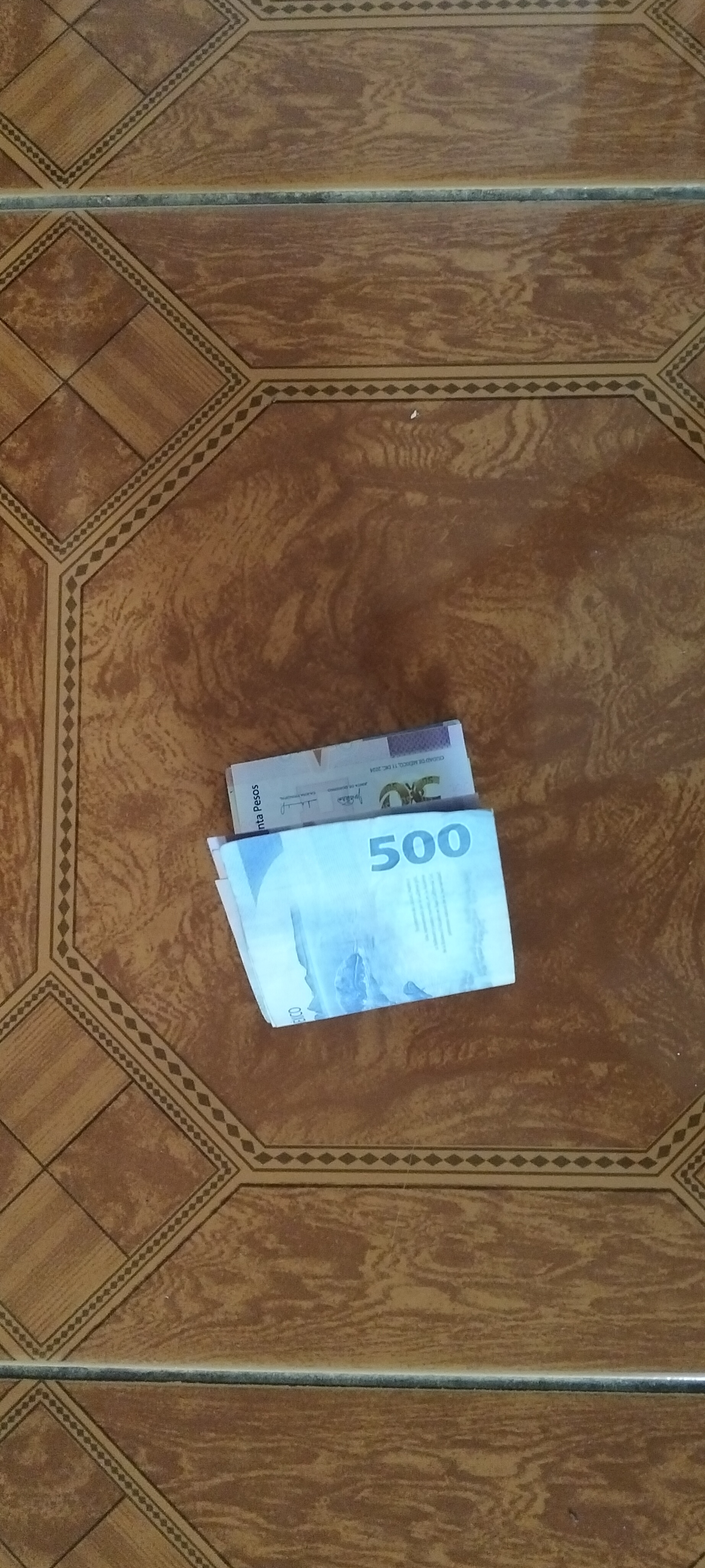billetes: (177, 711, 534, 1043)
